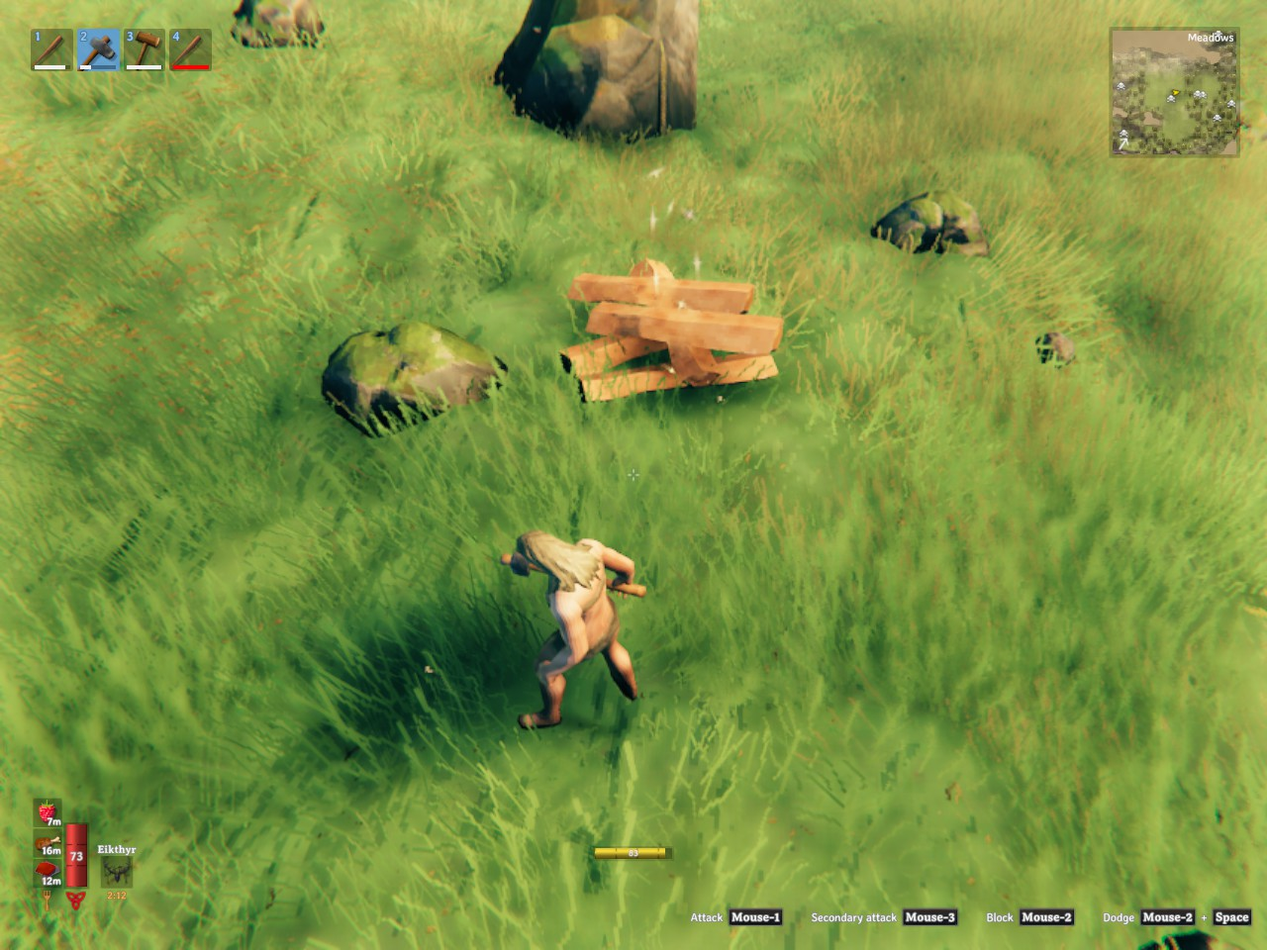Food Indicator: (36, 797, 63, 891)
Health Bar: (63, 820, 90, 891)
Hotbar: (25, 21, 398, 78)
Stone: (1035, 332, 1075, 367)
Wood: (586, 302, 781, 352), (568, 273, 754, 312), (578, 363, 690, 402), (562, 336, 666, 376), (670, 342, 719, 384), (707, 355, 777, 384), (631, 259, 673, 298)
